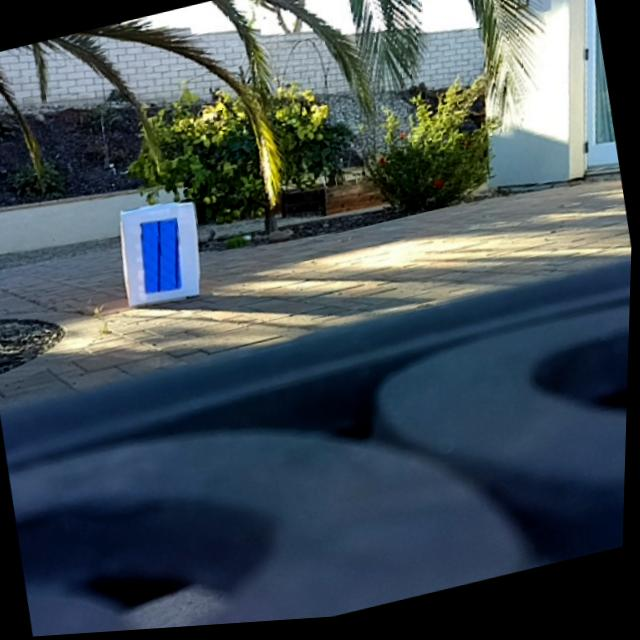led: (137, 217, 188, 299)
